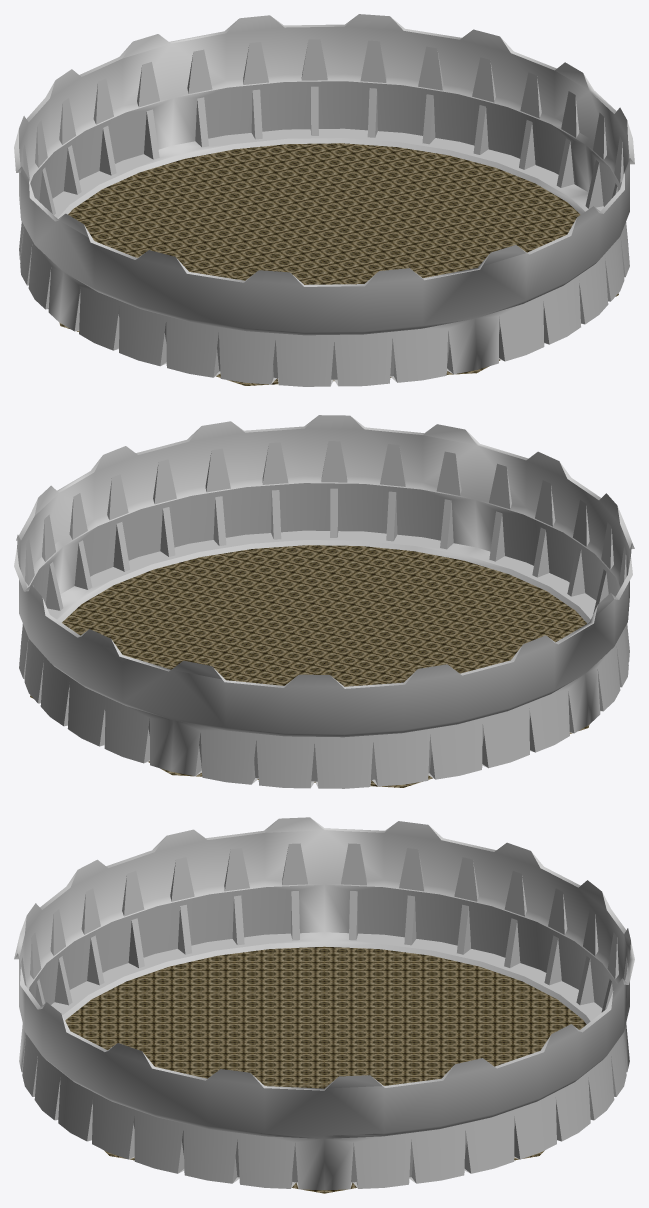
The model's file is arenaFBX.fbx.
The picture shows the model from 3 angles, top to bottom: view 1: azimuth 30°, elevation 25°; view 2: azimuth 150°, elevation 25°; view 3: azimuth 270°, elevation 25°; orthographic projection.
Parts seen in each view (by area): view 1: polySurface282, arenaFloor, polySurface280, polySurface281, polySurface283; view 2: polySurface283, arenaFloor, polySurface281, polySurface280, polySurface282; view 3: arenaFloor, polySurface280, polySurface281, polySurface282, polySurface283.
Boxes of the visible parts, left/top/right/bottom form: polySurface282: left=169, top=14, right=593, bottom=202; arenaFloor: left=59, top=143, right=618, bottom=385; polySurface280: left=55, top=213, right=479, bottom=386; polySurface281: left=14, top=34, right=183, bottom=321; polySurface283: left=475, top=90, right=634, bottom=369; polySurface283: left=57, top=415, right=479, bottom=603; arenaFloor: left=30, top=545, right=589, bottom=787; polySurface281: left=171, top=622, right=593, bottom=788; polySurface280: left=465, top=444, right=634, bottom=723; polySurface282: left=14, top=485, right=173, bottom=771; arenaFloor: left=65, top=946, right=586, bottom=1193; polySurface280: left=14, top=817, right=324, bottom=1020; polySurface281: left=324, top=821, right=634, bottom=1024; polySurface282: left=324, top=959, right=634, bottom=1190; polySurface283: left=14, top=953, right=324, bottom=1190.
Bounding box in the file's own units: 301 × 63.76 × 301.
